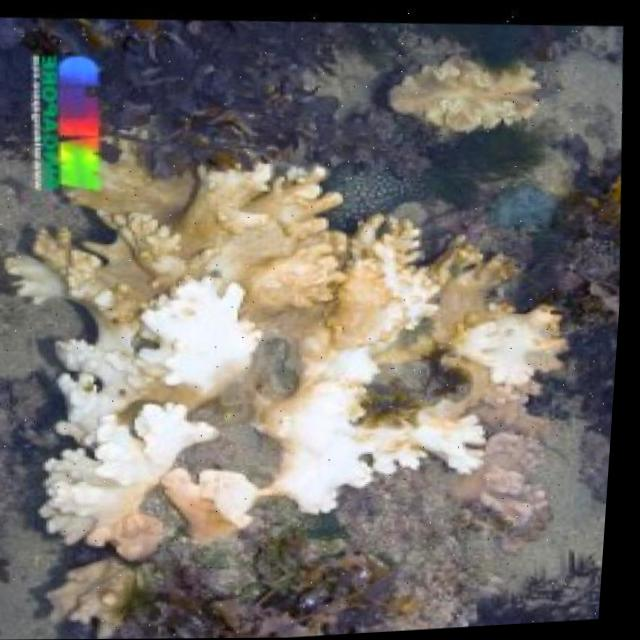Bleached Coral: (0, 128, 624, 574)
